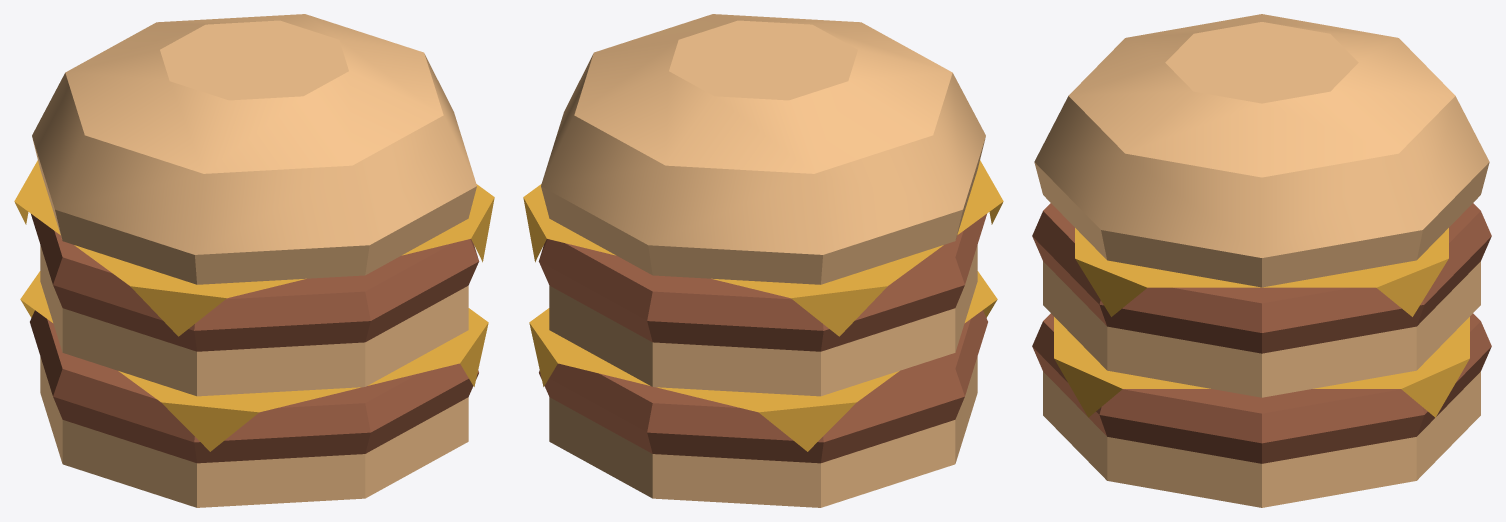
Rendered from burgerCheeseDouble.fbx.
The picture shows the model from 3 angles, left to right: view 1: azimuth 30°, elevation 25°; view 2: azimuth 150°, elevation 25°; view 3: azimuth 270°, elevation 25°; orthographic projection.
Parts seen in each view (by area): view 1: bunTop, patty (×2), bunBottom (×2), cheese (×2); view 2: bunTop, patty (×2), bunBottom (×2), cheese (×2); view 3: bunTop, patty (×2), bunBottom (×2), cheese (×2).
Boxes of the visible parts, left/top/right/bottom form: bunTop: left=32, top=14, right=476, bottom=284; patty (×2): left=30, top=214, right=479, bottom=463; bunBottom (×2): left=40, top=245, right=468, bottom=507; cheese (×2): left=14, top=160, right=494, bottom=451; bunTop: left=541, top=14, right=985, bottom=284; patty (×2): left=538, top=214, right=987, bottom=463; bunBottom (×2): left=549, top=245, right=977, bottom=507; cheese (×2): left=523, top=160, right=1003, bottom=451; bunTop: left=1034, top=14, right=1489, bottom=287; patty (×2): left=1032, top=203, right=1491, bottom=463; bunBottom (×2): left=1043, top=261, right=1480, bottom=507; cheese (×2): left=1054, top=228, right=1469, bottom=417.
Bounding box in the file's own units: 3.78 × 3.2 × 3.78.
